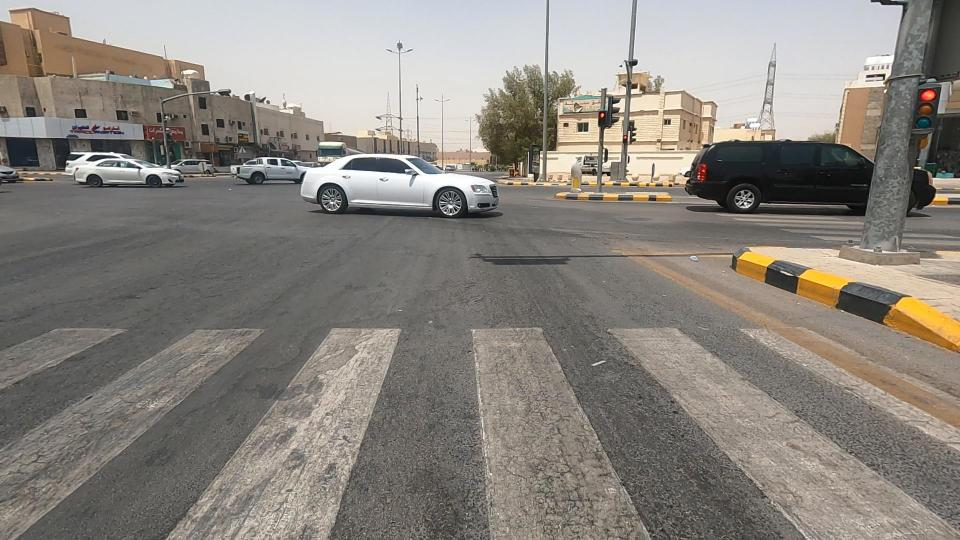BAD_BILLBOARD: (530, 85, 631, 135)
